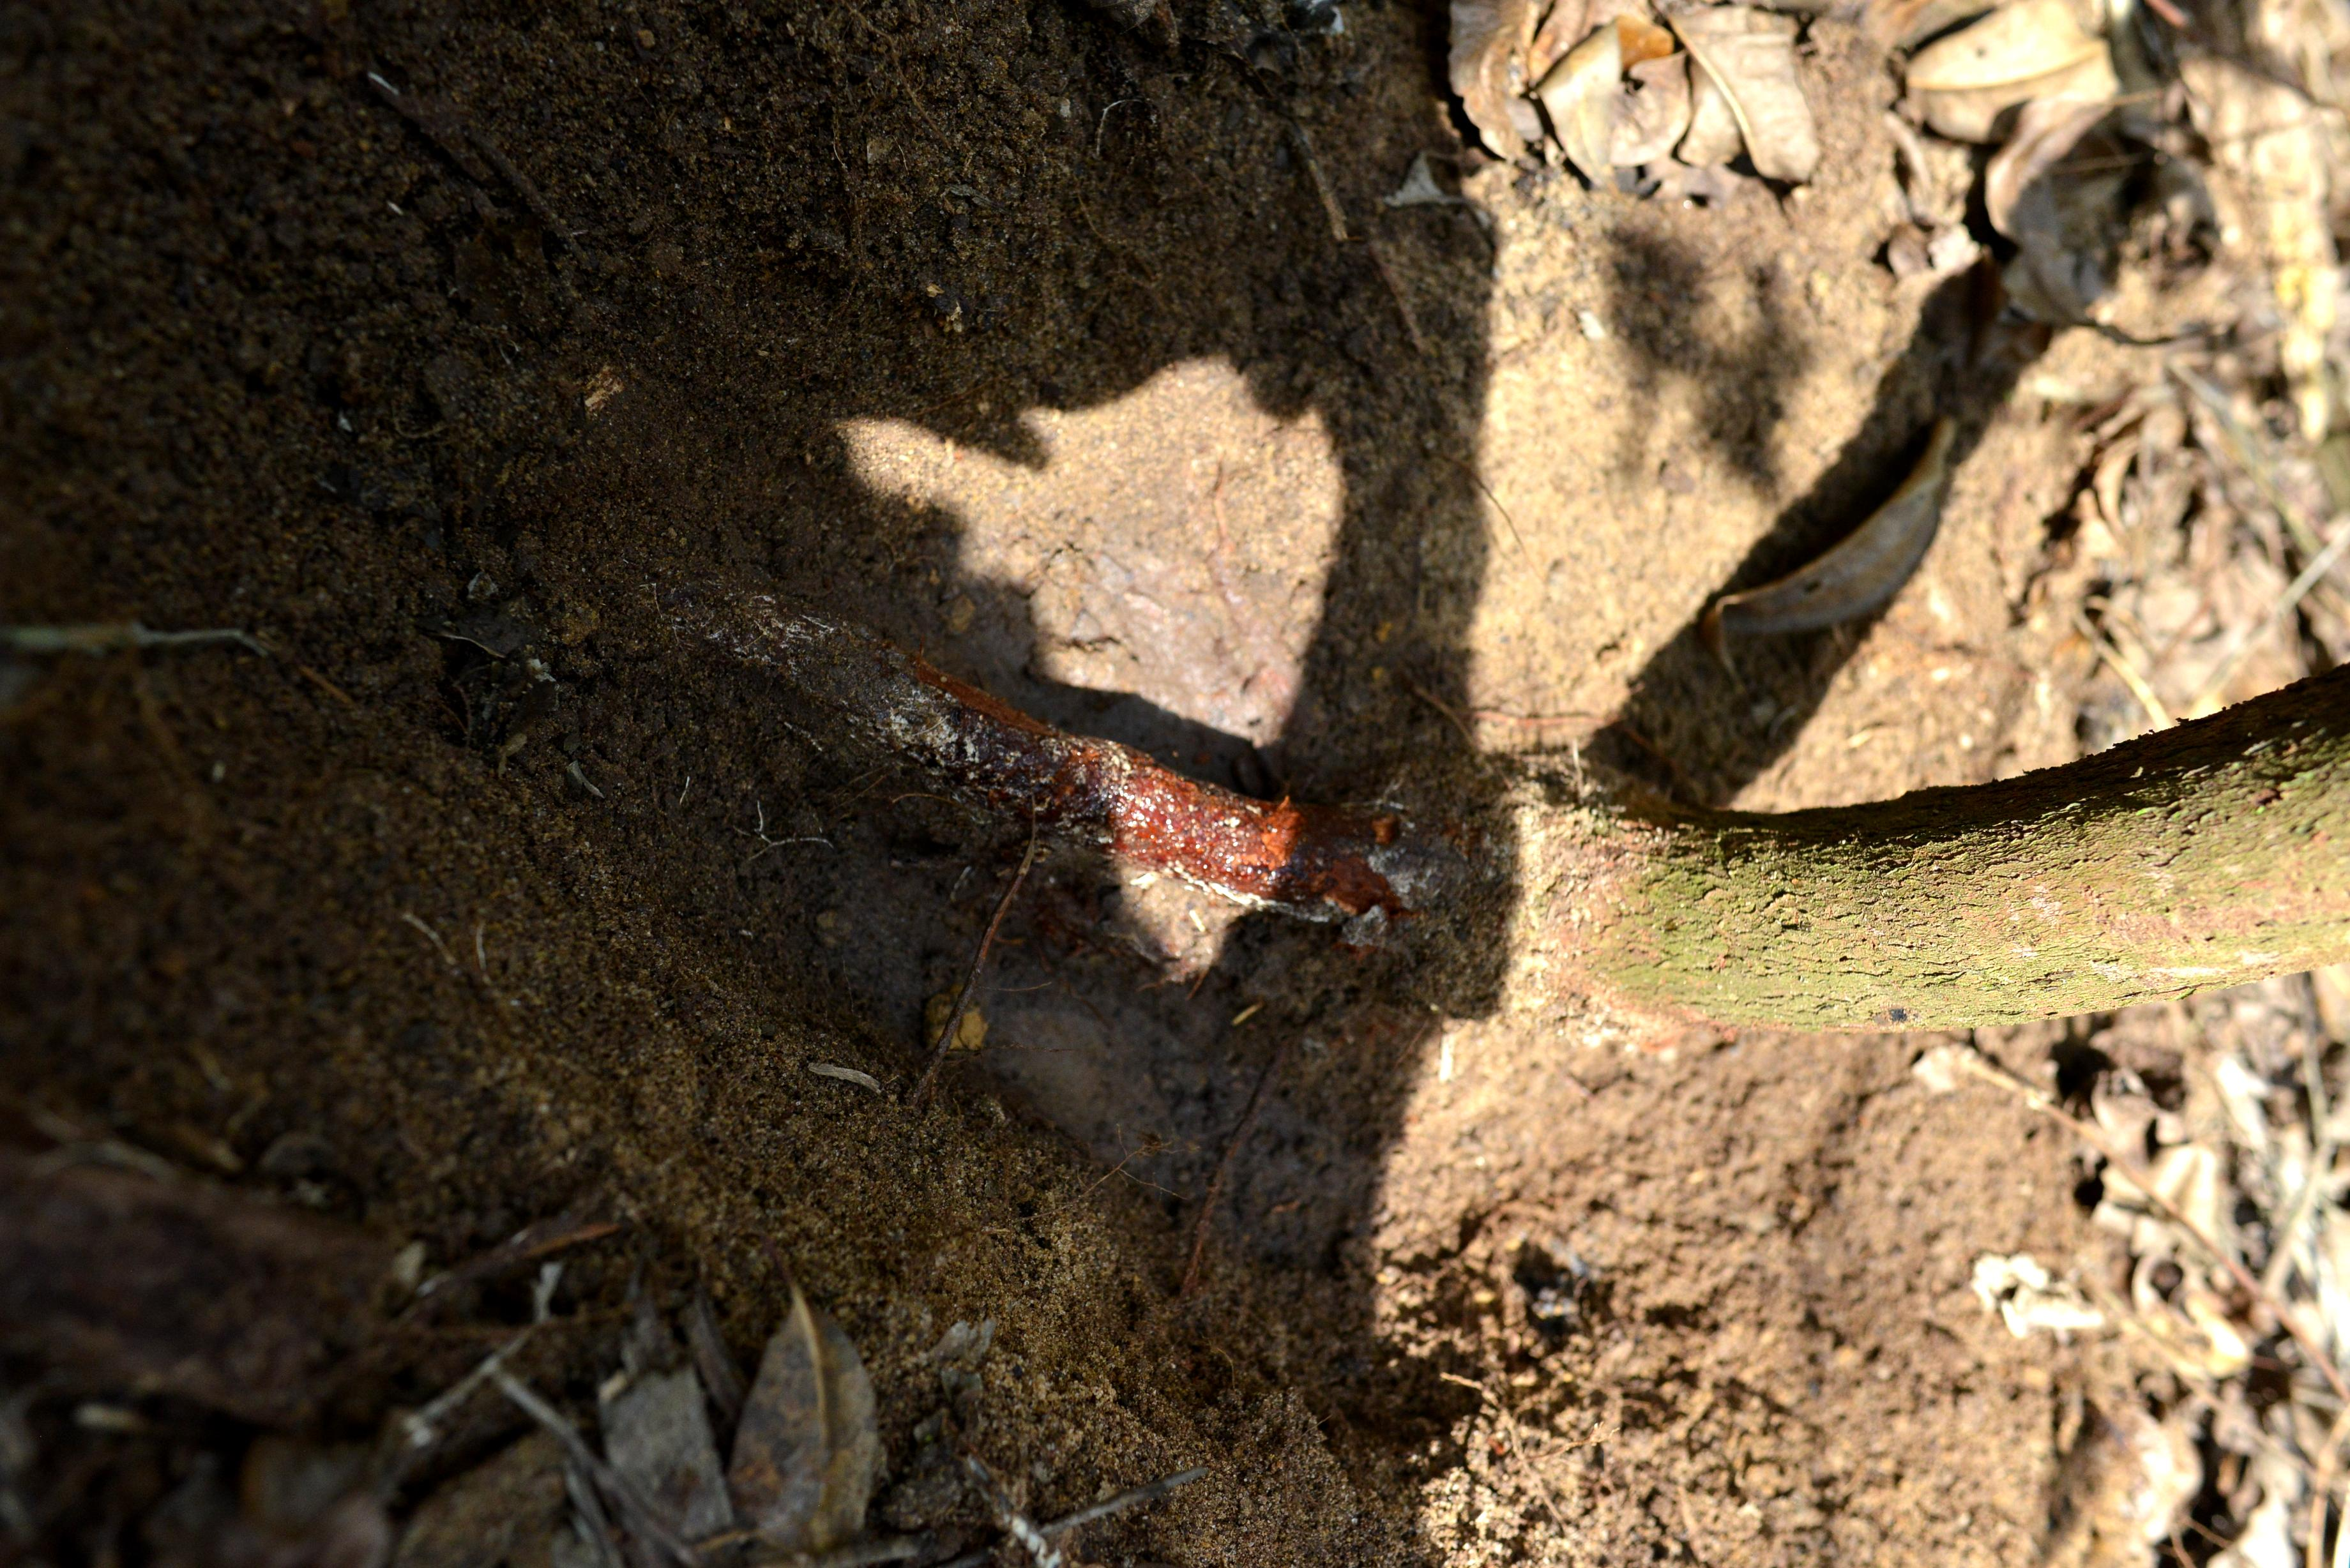Ganoderma - Mycelium: (1020, 728, 1153, 852), (1158, 891, 1400, 952), (698, 584, 836, 686), (861, 688, 980, 777)
Red Root Rot - Secretion: (905, 651, 1396, 913)
